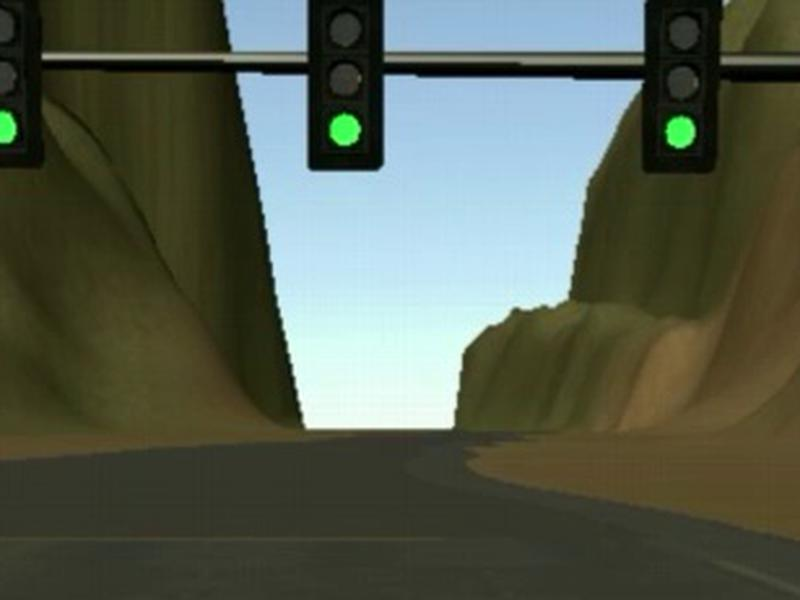Green: (641, 1, 724, 172), (307, 1, 384, 170), (1, 1, 45, 170)
